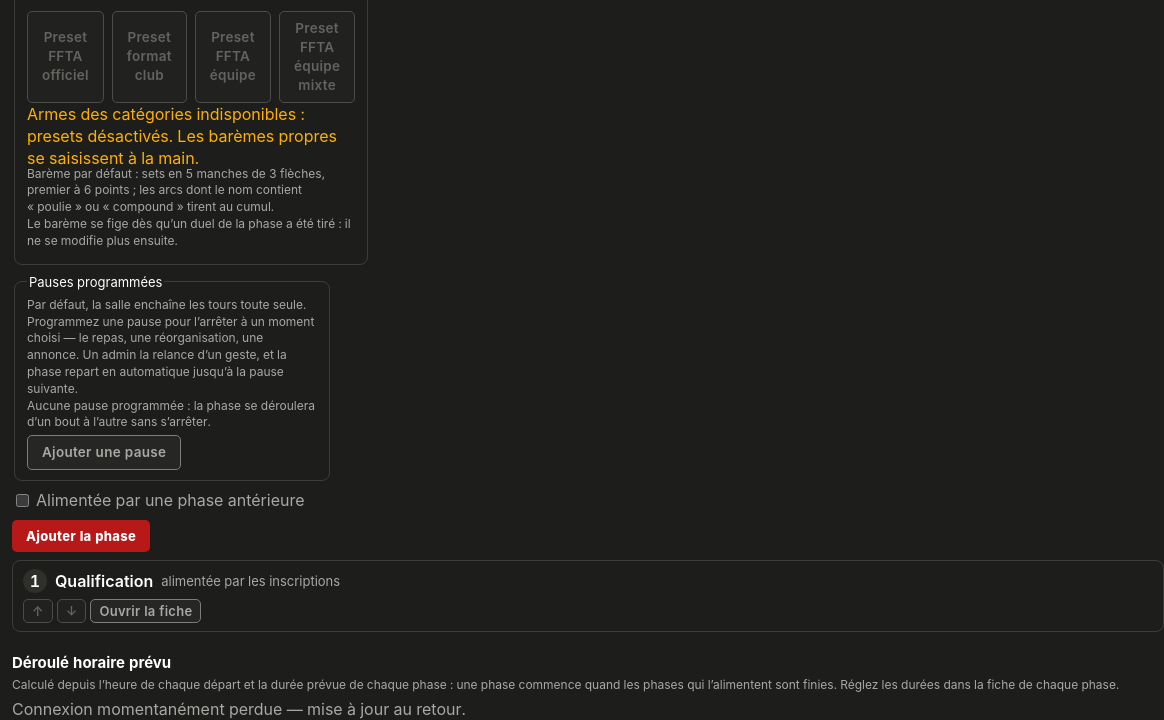
Test: le découpage en tours sur l’écran des phases › nomme le refus à venir quand le découpage ne tombe pas juste
(page scrolled)
Click the button "Ouvrir la fiche".
click(146, 611)  # box [90,599,201,623]
(page scrolled)
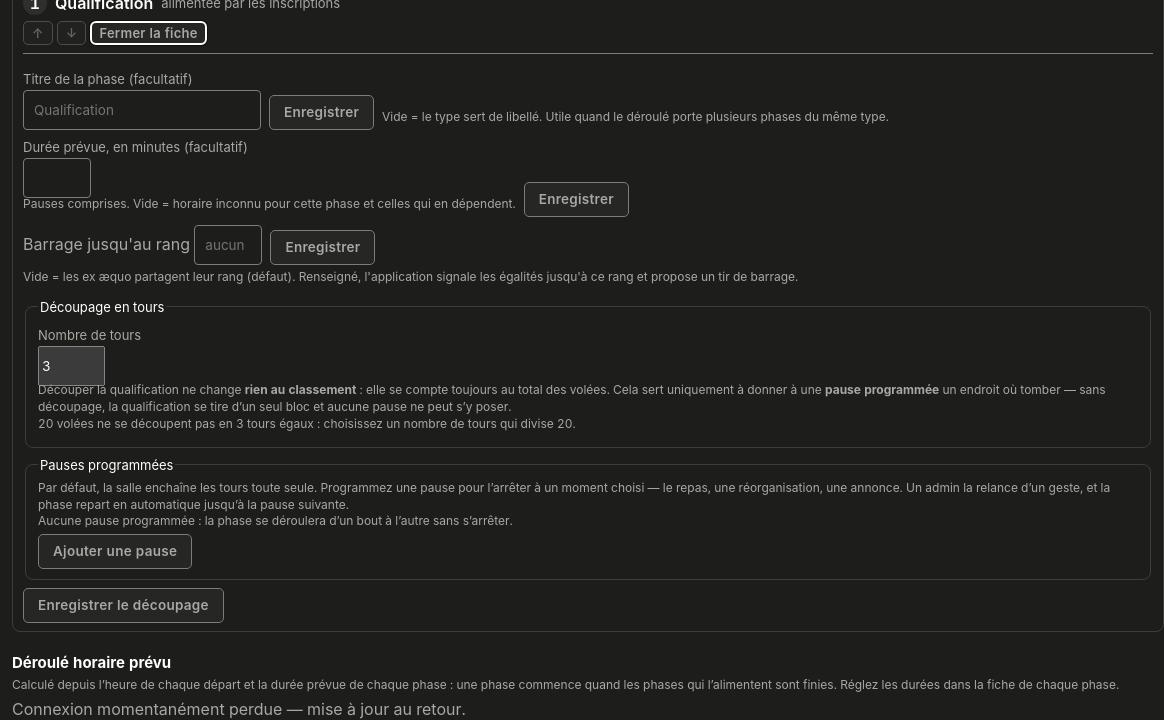
Check: the text "20 volées ne se découpent pas en 3 tours égaux" is shown, box [38,416,576,431]
